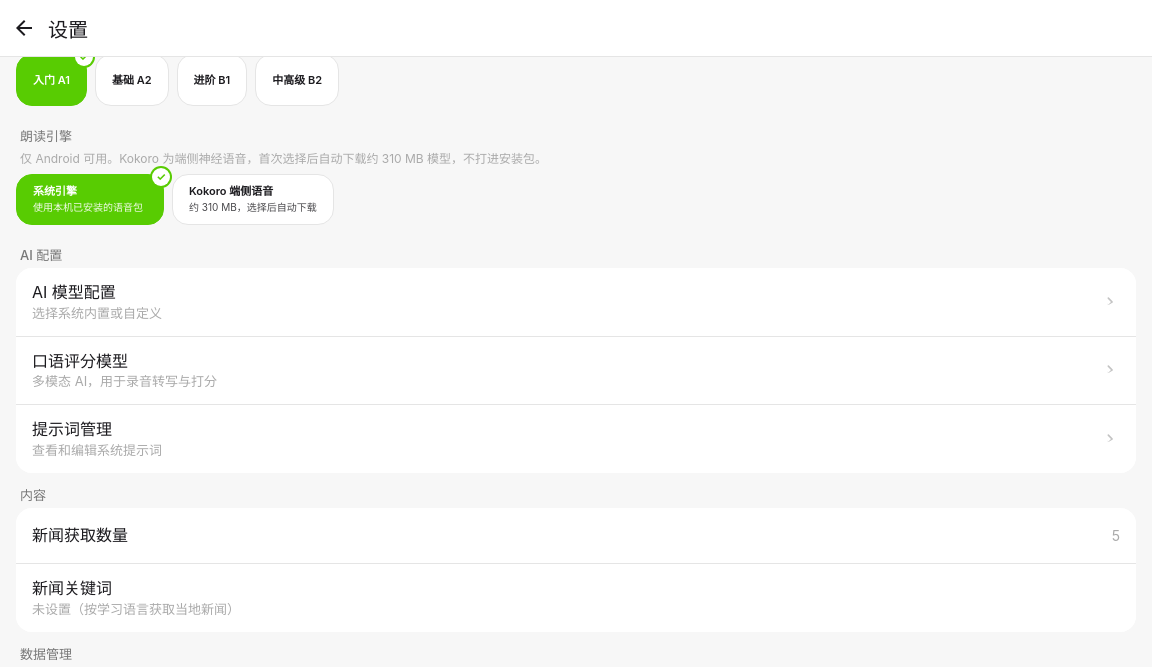
it: SettingsPage › shows the TTS engine picker on Android and persists Kokoro as tts_engine
(page scrolled)
Click the button with class "tts-engine-pill" showing "Kokoro 端侧语音 约 310 MB，选择后自动下载".
click(253, 200)  # box [172,174,334,225]
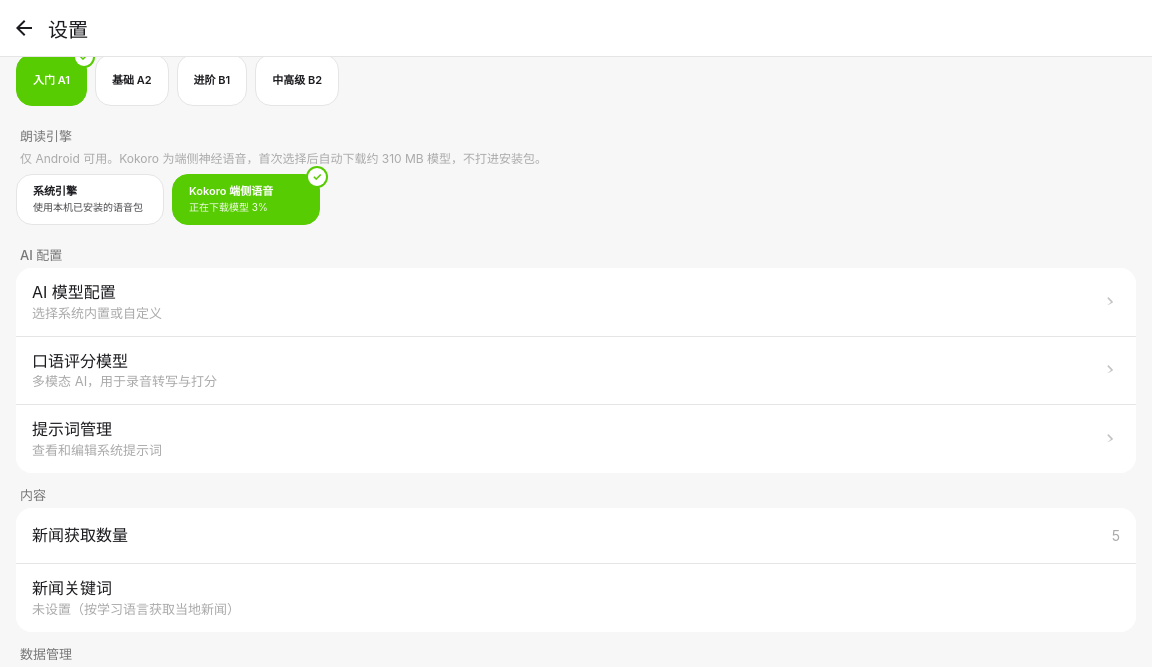
Check: the text "正在下载模型" is shown, box [189,201,268,213]
